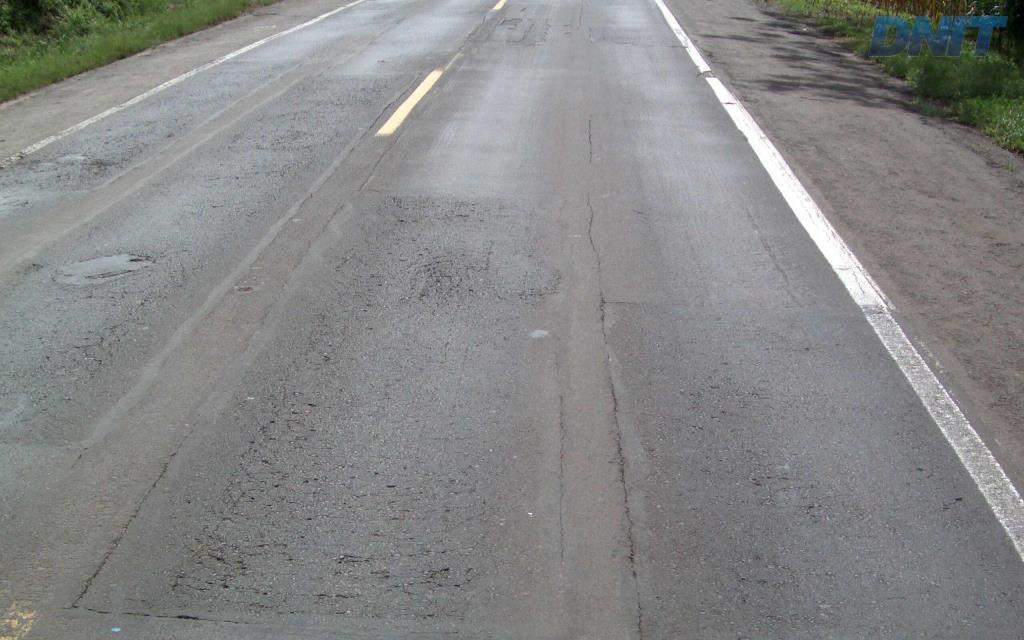crack: (187, 524, 255, 589), (423, 260, 462, 305)
